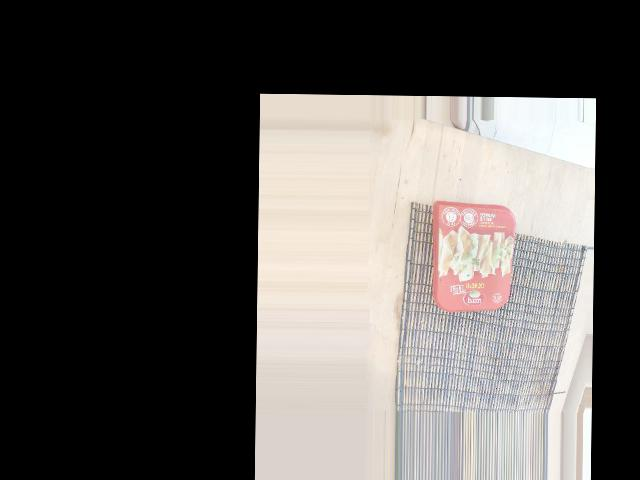cheese: (442, 200, 520, 316)
